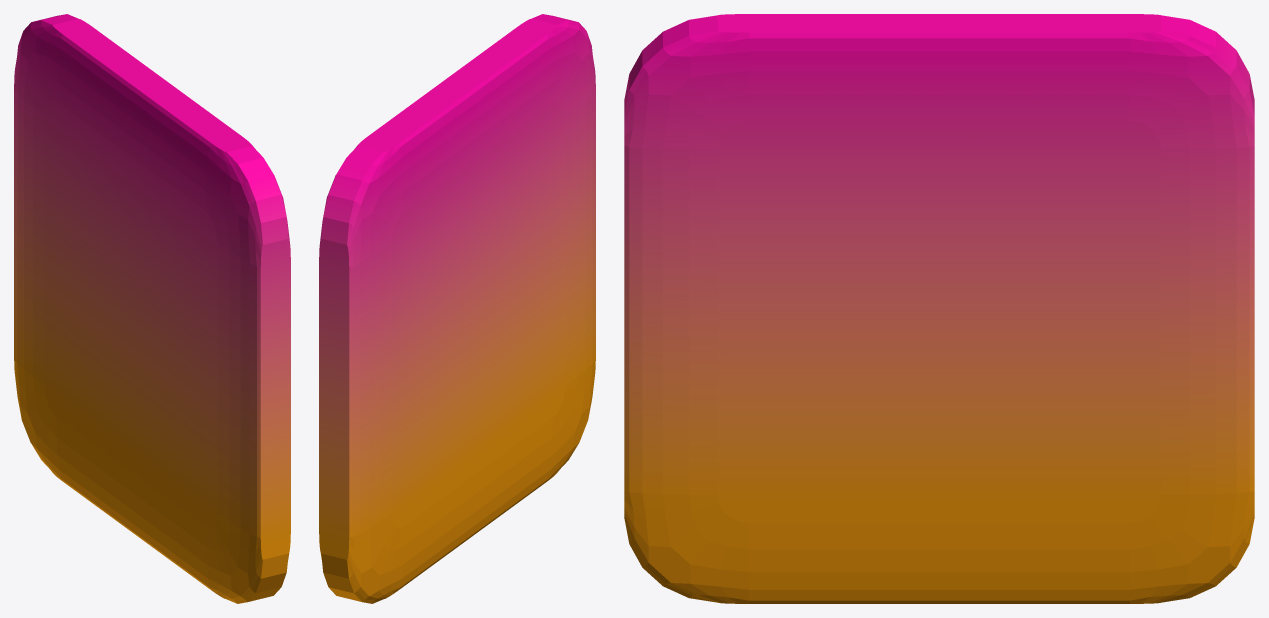
File: iNSTAGRAMButton.glb
3 views of the same model, side by side, from view 1: azimuth 30°, elevation 25°; view 2: azimuth 150°, elevation 25°; view 3: azimuth 270°, elevation 25° (orthographic). The views are drawn at different scales.
Visible parts, largest first — view 1: Cube; view 2: Cube; view 3: Cube.
Part boxes in pixels (x1=…): Cube: x1=14, y1=14, x2=290, y2=603; Cube: x1=319, y1=14, x2=595, y2=603; Cube: x1=624, y1=14, x2=1254, y2=603.
Size of the model in its own units: 0.2 by 2 by 2.
2 materials, 2 textured.
